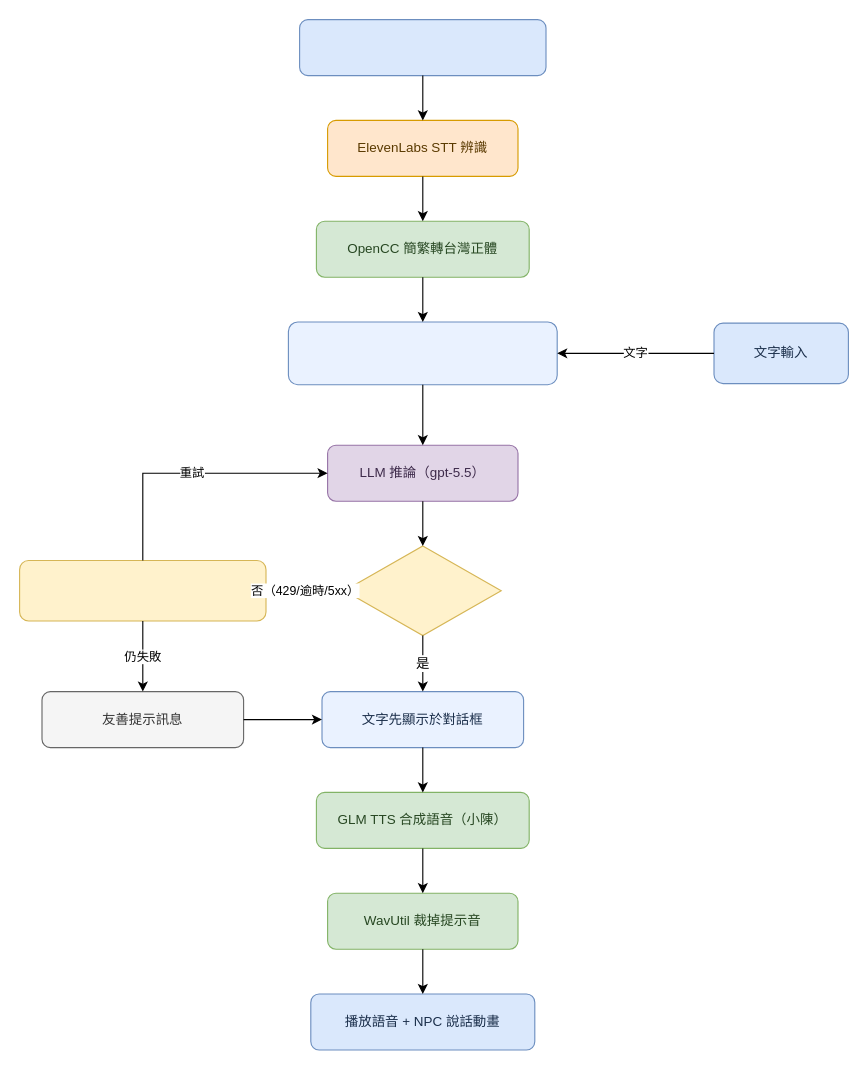
This 868x1070 diagram has some shape labels left out. The box of each missing label's shape, as (x1, y1, x2, y2) in pixels:
LlmRetryPolicy 指數退避重試（≤2 次）: (18, 559, 266, 621)
回傳成功?: (343, 545, 501, 636)
按住麥克風說話（錄音）: (298, 18, 546, 76)
組該 POI 專屬 prompt（LlmPromptBuilder）: (287, 321, 557, 385)
